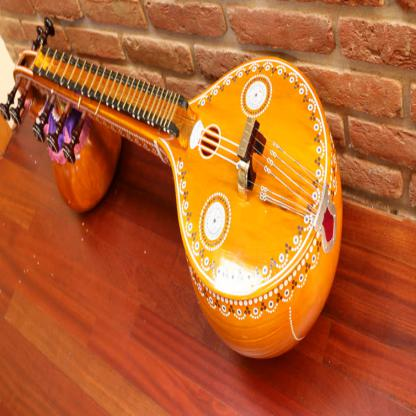Veena: (1, 11, 351, 233)
